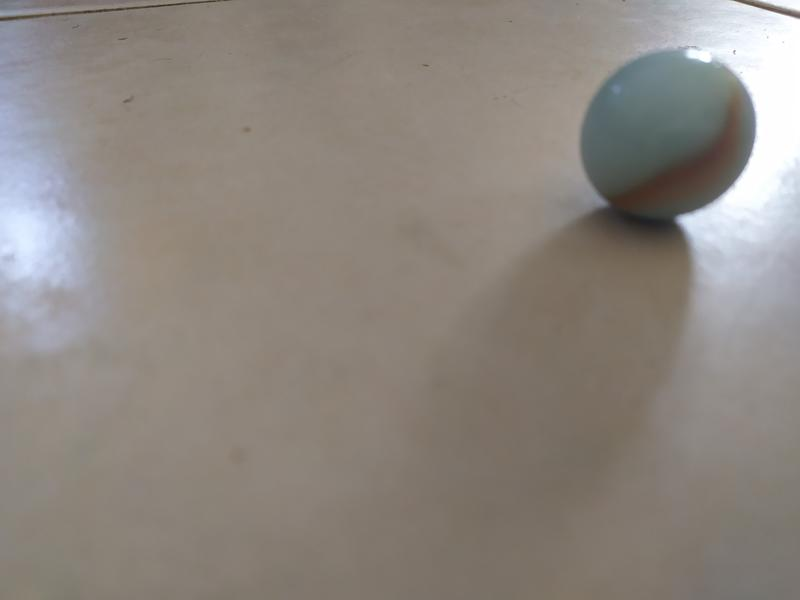Warning: (575, 40, 763, 225)
